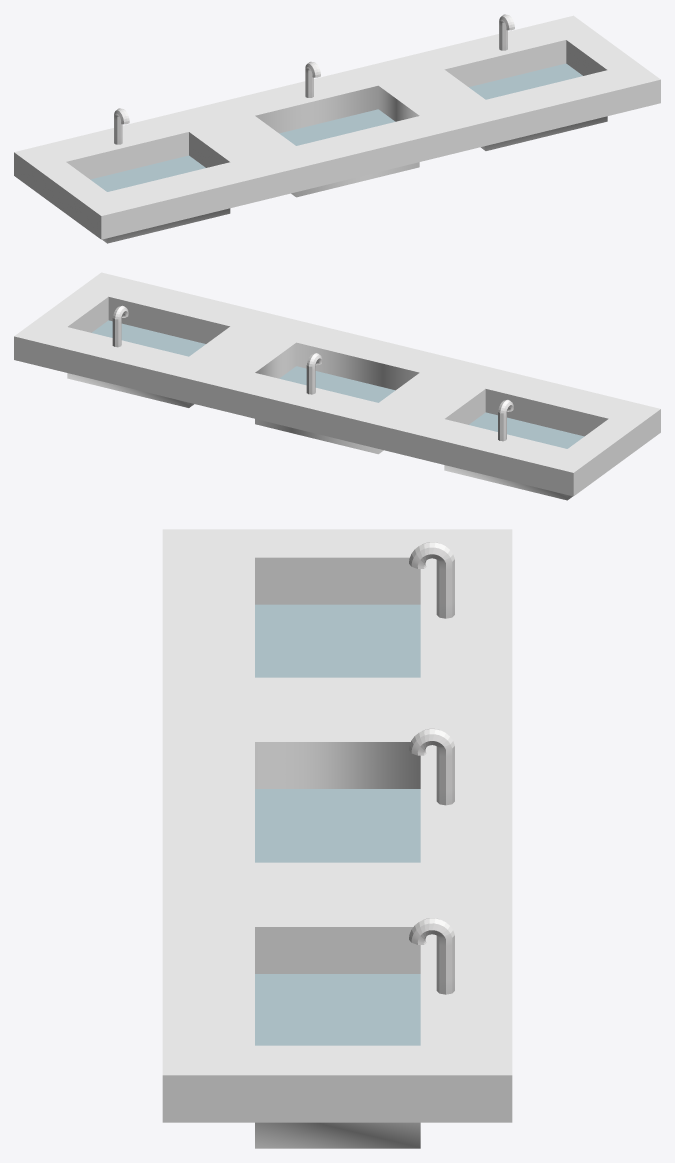
File: Lavamanos.fbx
3 views of the same model, one above another, from view 1: azimuth 30°, elevation 25°; view 2: azimuth 150°, elevation 25°; view 3: azimuth 270°, elevation 25° (orthographic). The views are drawn at different scales.
Visible parts, largest first — view 1: Cube.001; view 2: Cube.001; view 3: Cube.001.
Part boxes in pixels (x1,y1,x2,y2): Cube.001: (14, 14, 660, 243); Cube.001: (14, 272, 660, 500); Cube.001: (162, 529, 512, 1148).
Bounding box in the file's own units: 1561 × 234 × 422.
